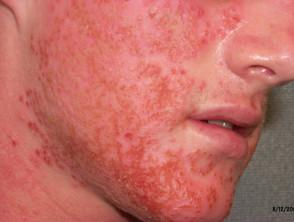Eczema: (75, 16, 125, 113), (128, 156, 197, 202), (20, 101, 59, 164), (92, 136, 117, 192), (150, 76, 179, 111), (164, 11, 194, 40), (31, 42, 48, 81)
